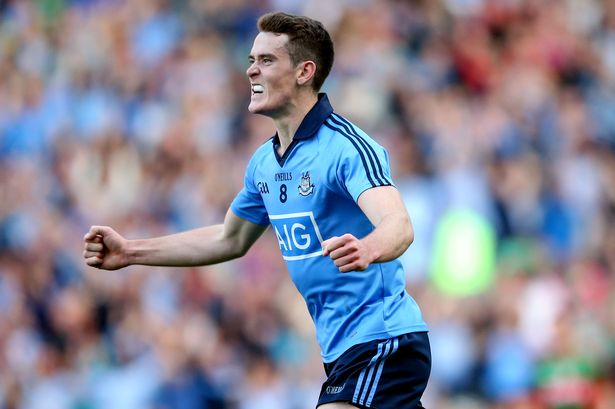player: (218, 10, 442, 404)
